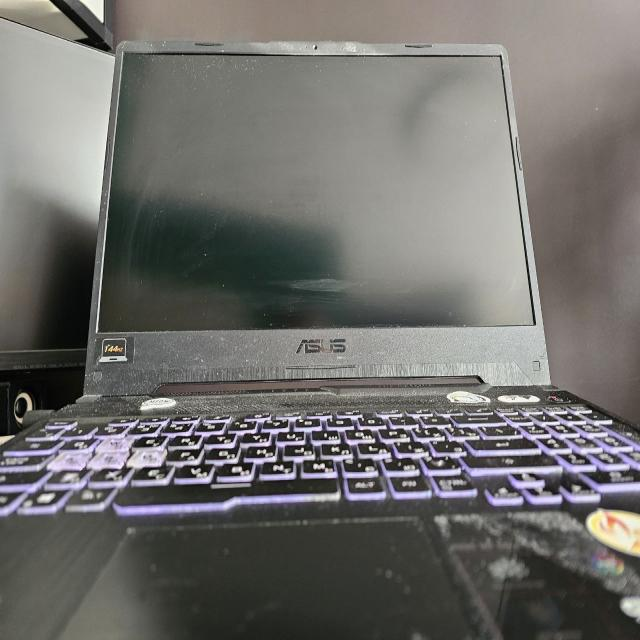scratch: (273, 264, 379, 305)
